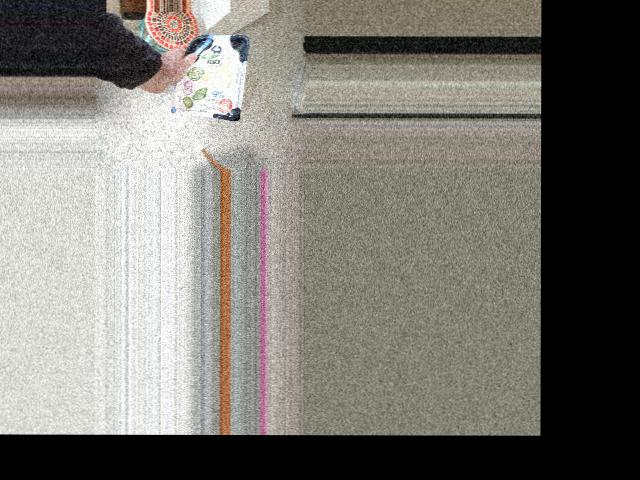cheese: (158, 46, 224, 119)
